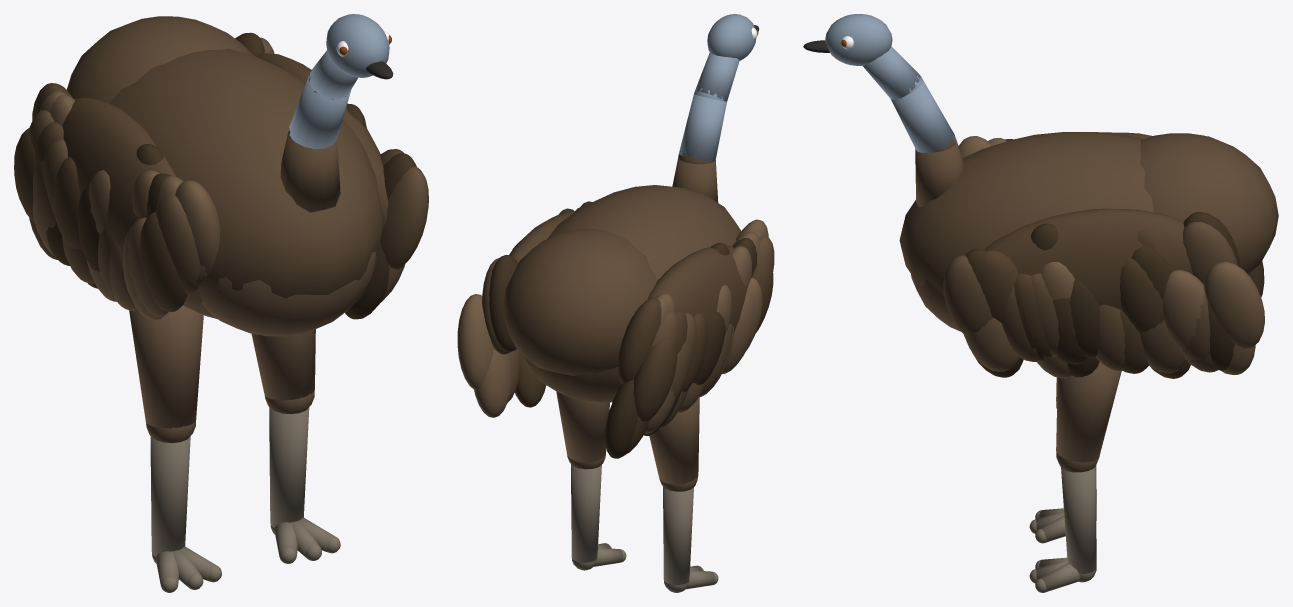
Rendered from emu.glb.
3 renders of one model, left to right at view 1: azimuth 30°, elevation 25°; view 2: azimuth 150°, elevation 25°; view 3: azimuth 270°, elevation 25°, orthographic. The views are drawn at different scales.
Parts seen in each view (by area): view 1: body, legR, neckp, shinR, shinL, legL, head; view 2: body, neckp, shinR, shinL, legR, legL, head; view 3: body, neckp, legL, shinL, head, shinR.
Boxes of the visible parts, x1,y1,x2,y2 form: body: (14,16,428,336); legR: (129,305,203,442); neckp: (280,50,357,212); shinR: (150,436,221,592); shinL: (269,407,340,563); legL: (251,329,315,414); head: (326,14,393,79); body: (457,185,774,458); neckp: (672,52,739,202); shinR: (663,486,718,592); shinL: (571,464,626,570); legR: (649,397,699,491); legL: (556,391,610,469); head: (707,14,759,60); body: (899,132,1278,378); neckp: (862,46,964,207); legL: (1056,362,1121,472); shinL: (1029,466,1096,592); head: (803,14,892,65); shinR: (1029,465,1096,543).
Bounding box in the file's own units: 1.15 × 2.65 × 2.11.
